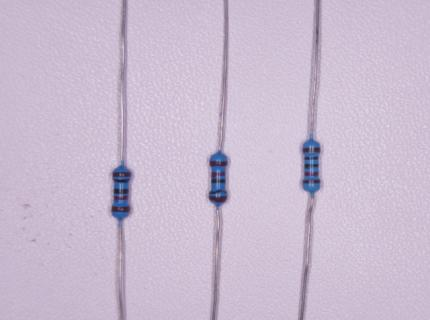Black band: (209, 189, 226, 194), (114, 189, 129, 194), (211, 179, 226, 184), (305, 164, 318, 169), (114, 179, 130, 183), (305, 157, 318, 160)
Brown band: (209, 196, 228, 203), (112, 206, 130, 212), (209, 161, 227, 167), (113, 172, 131, 177), (303, 147, 320, 152), (303, 180, 320, 183)
Red band: (211, 172, 225, 177), (304, 172, 319, 176), (114, 196, 128, 200)
